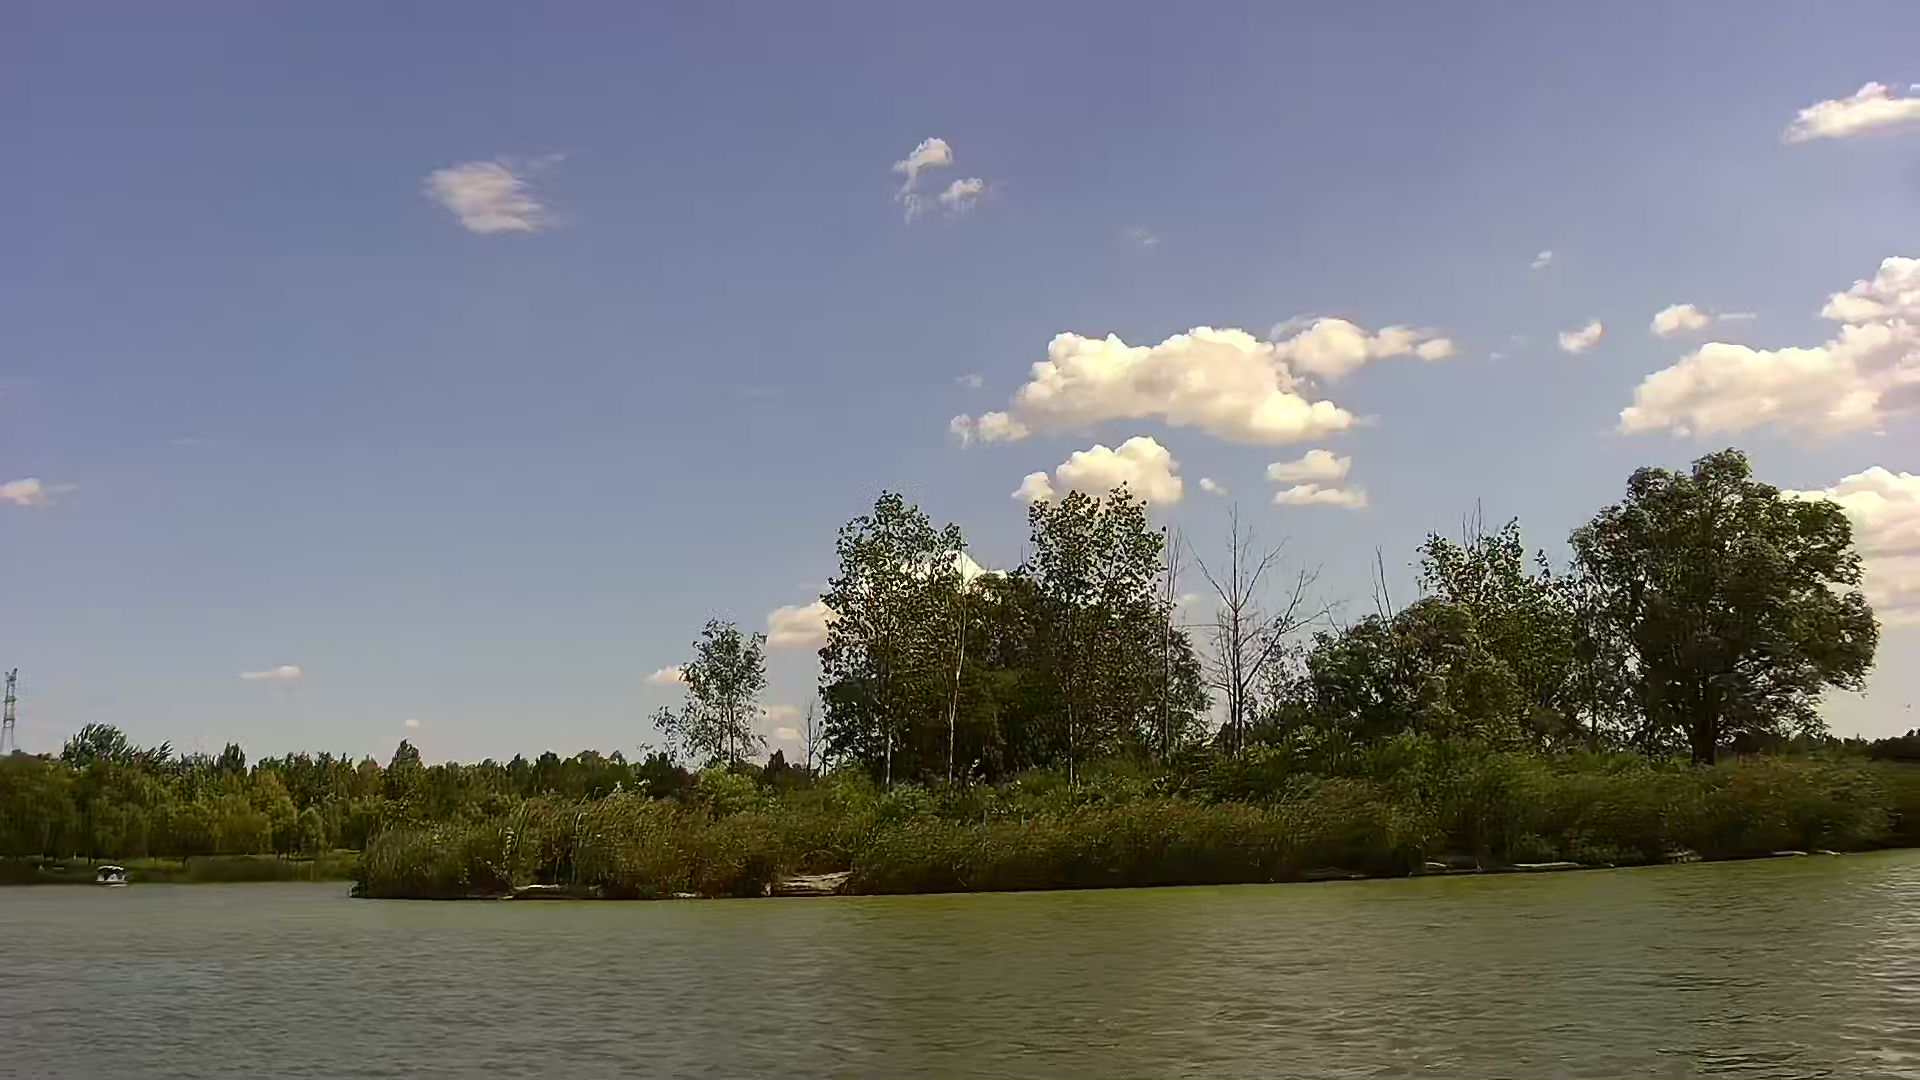boat: (92, 860, 123, 889)
rock: (774, 866, 862, 897), (509, 881, 579, 903)
